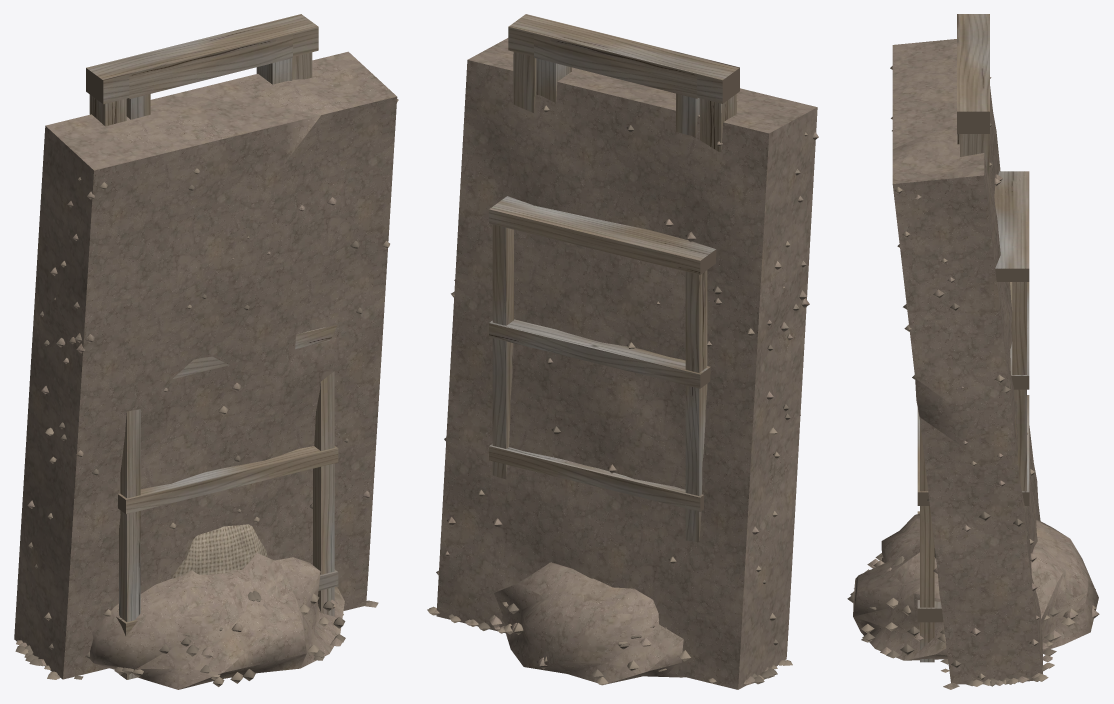
The model's file is cellar_props.glb.
3 renders of one model, left to right at view 1: azimuth 30°, elevation 25°; view 2: azimuth 150°, elevation 25°; view 3: azimuth 270°, elevation 25°, orthographic. The views are drawn at different scales.
Parts seen in each view (by area): view 1: p_cel_slump, p_cel_heap, p_cel_shelf, p_cel_frame, p_cel_frame_narrow, p_cel_sack; view 2: p_cel_slump, p_cel_shelf, p_cel_heap, p_cel_frame, p_cel_frame_narrow; view 3: p_cel_slump, p_cel_heap, p_cel_shelf, p_cel_frame.
Boxes of the visible parts, x1=… form: p_cel_slump: x1=14, y1=51, x2=398, y2=679; p_cel_heap: x1=89, y1=552, x2=345, y2=689; p_cel_shelf: x1=116, y1=324, x2=338, y2=679; p_cel_frame: x1=86, y1=14, x2=318, y2=126; p_cel_frame_narrow: x1=126, y1=34, x2=292, y2=119; p_cel_sack: x1=172, y1=524, x2=267, y2=578; p_cel_slump: x1=427, y1=38, x2=818, y2=689; p_cel_shelf: x1=489, y1=196, x2=716, y2=542; p_cel_heap: x1=488, y1=562, x2=690, y2=685; p_cel_frame: x1=508, y1=14, x2=739, y2=151; p_cel_frame_narrow: x1=534, y1=34, x2=699, y2=137; p_cel_slump: x1=890, y1=39, x2=1056, y2=689; p_cel_heap: x1=847, y1=513, x2=1099, y2=660; p_cel_shelf: x1=917, y1=171, x2=1029, y2=662; p_cel_frame: x1=957, y1=14, x2=989, y2=181.
Size of the model in its own units: 1.08 by 1.85 by 0.7673.
Materials: 11 (3 with a texture image).
